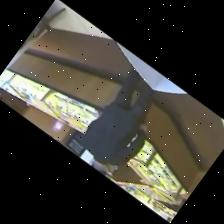person: (82, 67, 153, 174)
